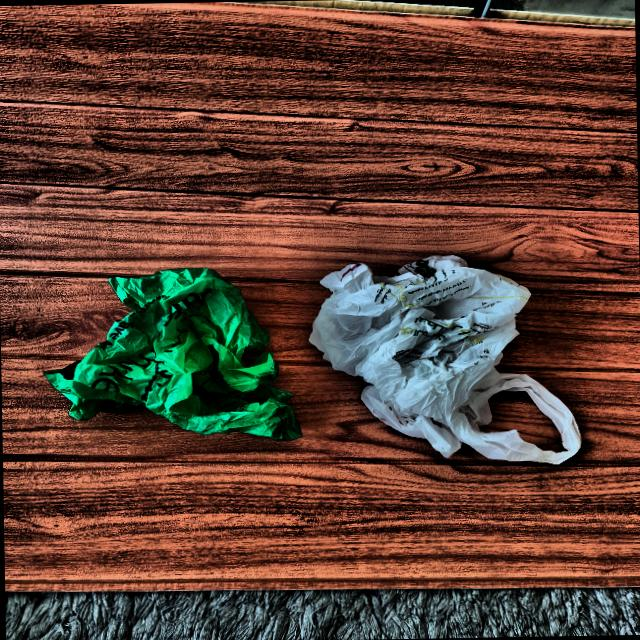plastic bag: (312, 250, 598, 467), (49, 260, 298, 446)
